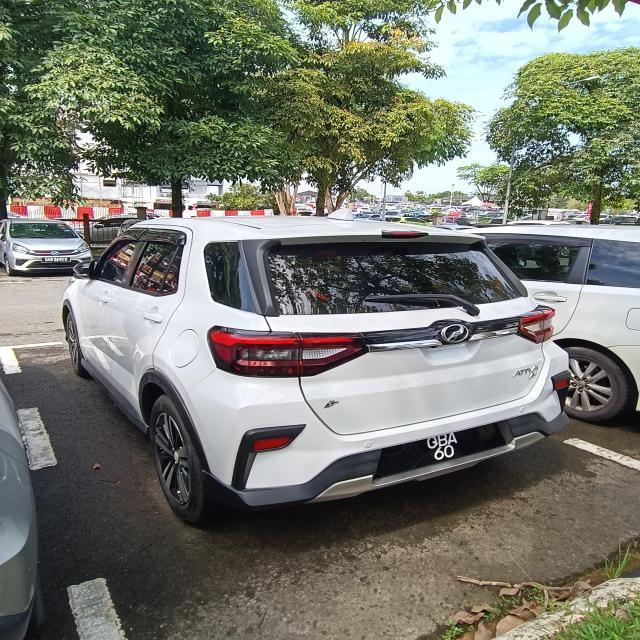PeroduaAtiva: (59, 210, 574, 525)
